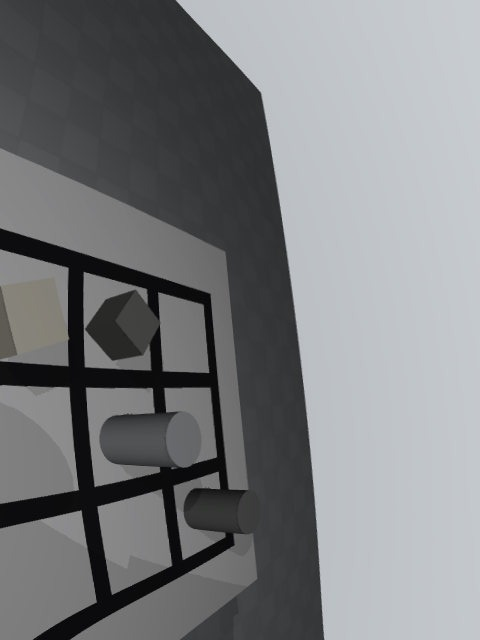can: (99, 411, 201, 468)
cube: (85, 289, 161, 361)
cylinder: (184, 488, 260, 535)
foam: (0, 278, 69, 360)
